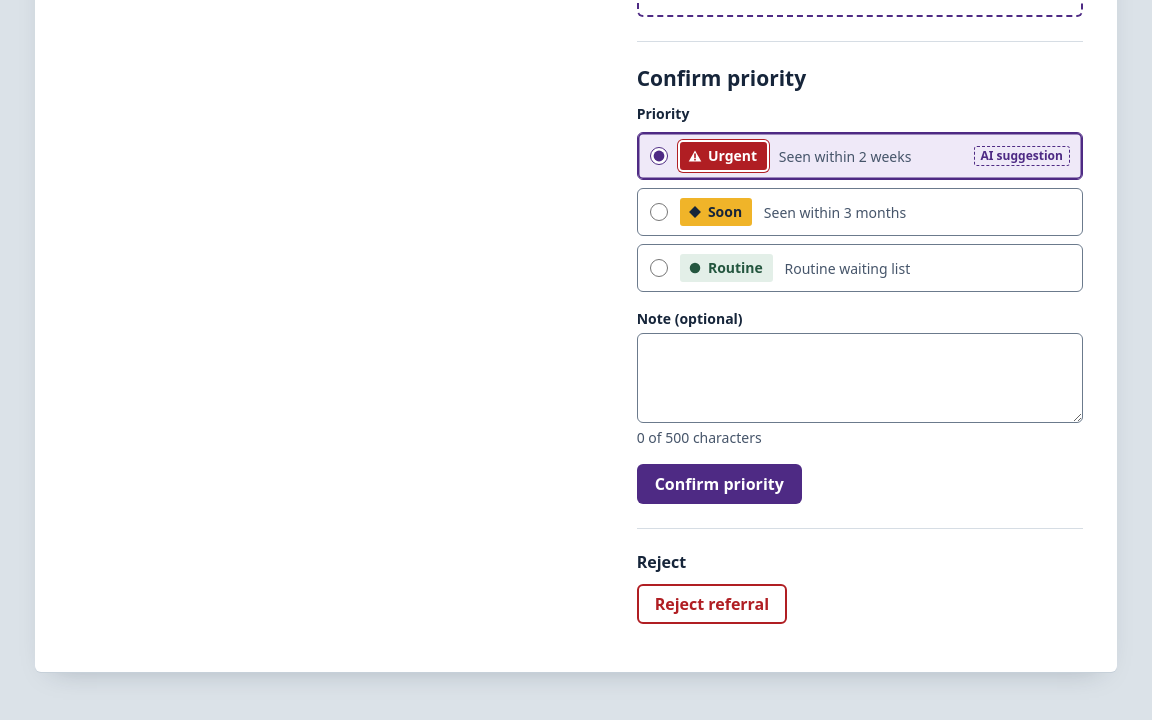
Test: referral detail › shows the "changed" message and reloads the referral when confirm gets a 409
(page scrolled)
Click the button "Confirm priority" at (719, 484), box [637,464,802,504]
(page scrolled)
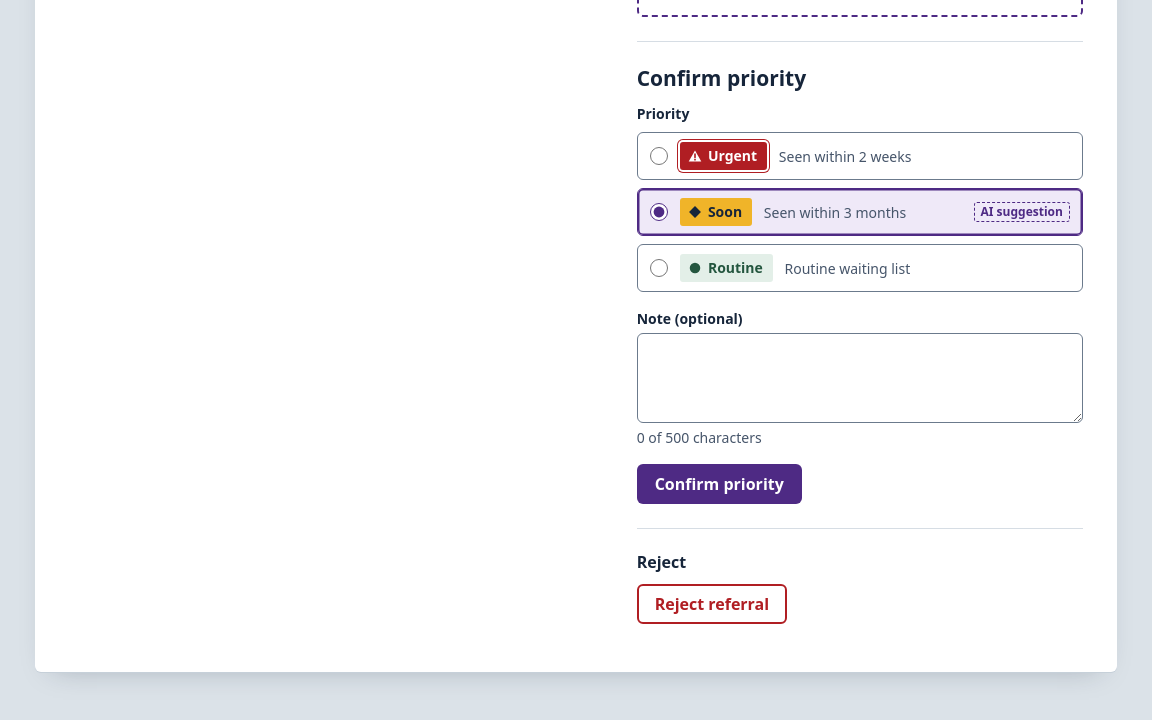
Expected: the radio button labelled "Soon Seen within 3 months AI suggestion" is checked, [650,203,668,221]
